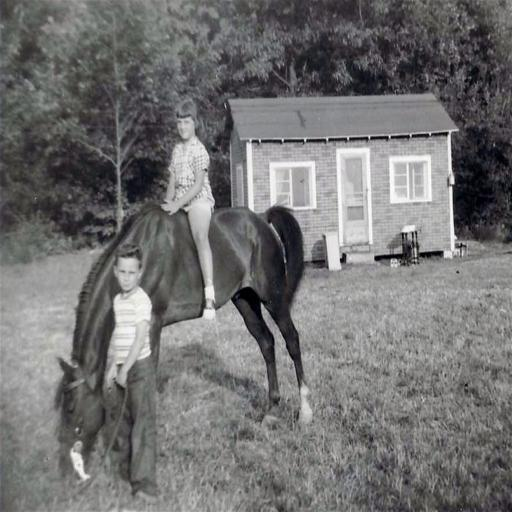horse: (50, 201, 314, 487)
